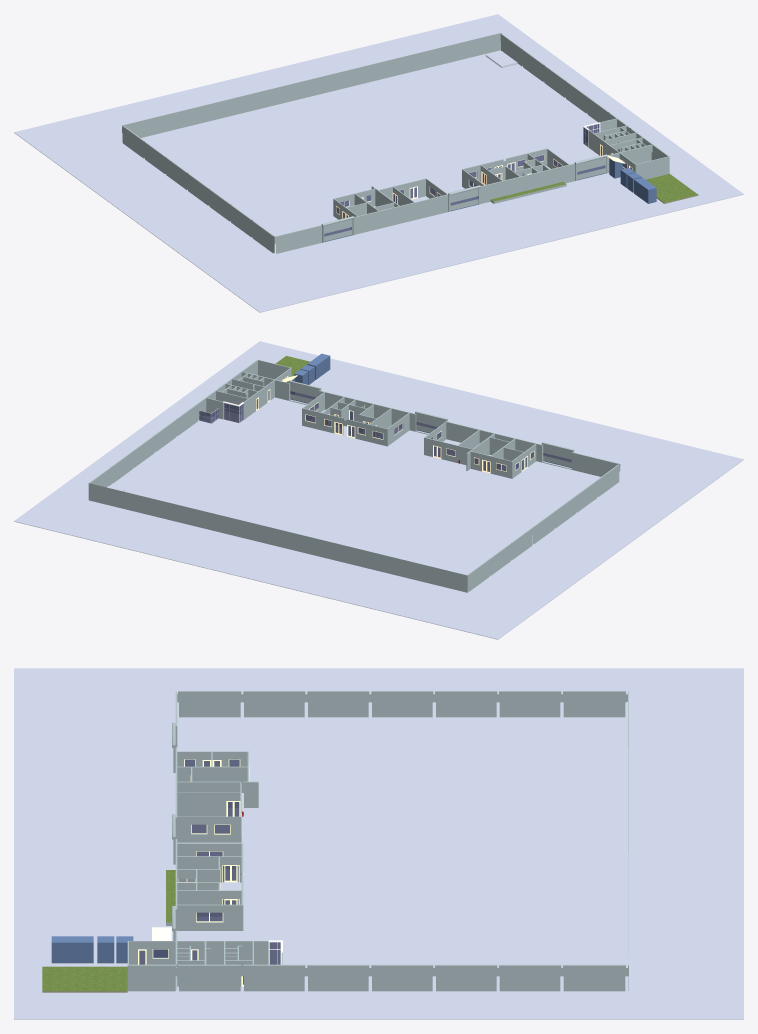
File: house002.glb
The picture shows the model from 3 angles, top to bottom: view 1: azimuth 30°, elevation 25°; view 2: azimuth 150°, elevation 25°; view 3: azimuth 270°, elevation 25°; orthographic projection. The views are drawn at different scales.
Parts seen in each view (by area): view 1: skfb_offset; view 2: skfb_offset; view 3: skfb_offset.
Part boxes in pixels (x1,y1,x2,y2): skfb_offset: (14, 14, 743, 312); skfb_offset: (14, 341, 743, 639); skfb_offset: (14, 668, 743, 1019).
Bounding box in the file's own units: 726 × 30.4 × 639.
Materials: 12 (4 with a texture image).
